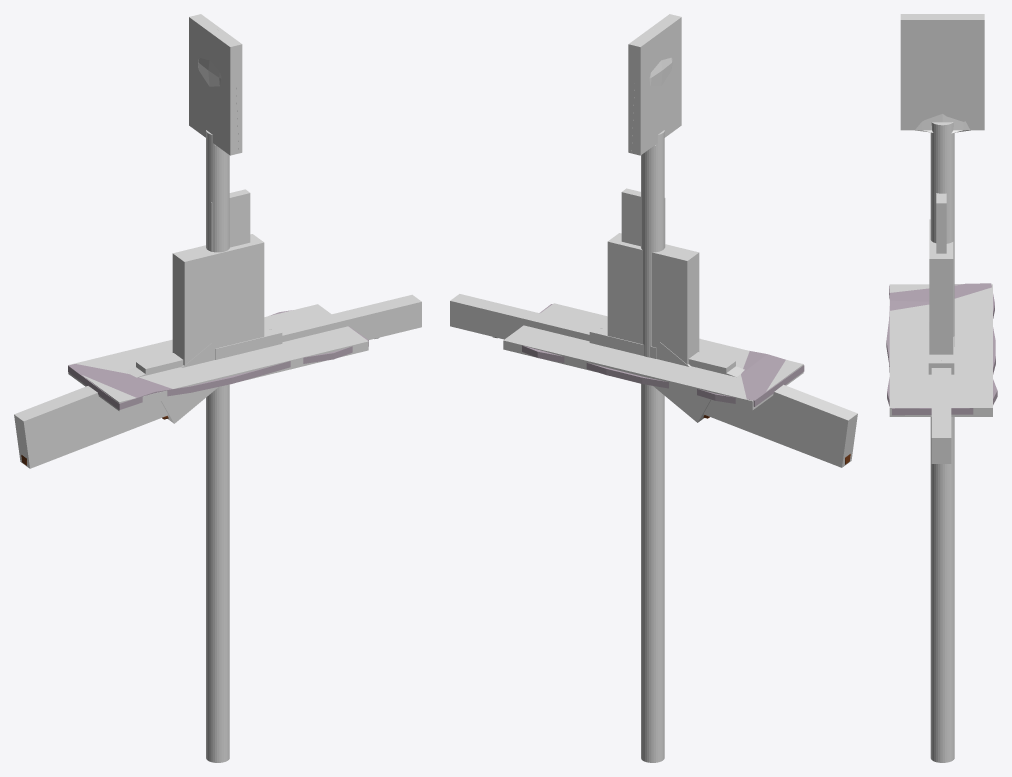
3 renders of one model, left to right at view 1: azimuth 30°, elevation 25°; view 2: azimuth 150°, elevation 25°; view 3: azimuth 270°, elevation 25°, orthographic.
Visible parts, largest first — view 1: COLL_CYLINDER_shovel_handle, COLL_BOX_book, COLL_BOX_combo_code, COLL_BOX_shotgun_handle, COLL_BOX_shovel_spade, COLL_BOX_shotgun_barrel, OBJ_combo_code, COLL_BOX_blade, COLL_BOX_revolver_handle, COLL_BOX_revolver_barrel; view 2: COLL_CYLINDER_shovel_handle, COLL_BOX_book, COLL_BOX_combo_code, COLL_BOX_shotgun_handle, COLL_BOX_shovel_spade, COLL_BOX_shotgun_barrel, OBJ_combo_code, COLL_BOX_blade, COLL_BOX_revolver_handle, COLL_BOX_revolver_barrel; view 3: COLL_CYLINDER_shovel_handle, COLL_BOX_combo_code, COLL_BOX_shovel_spade, COLL_BOX_book, OBJ_combo_code, COLL_BOX_shotgun_barrel, COLL_BOX_blade, COLL_BOX_revolver_barrel, OBJ_shovel.
Part boxes in pixels (x1,y1,x2,y2): COLL_CYLINDER_shovel_handle: (206, 130, 229, 762); COLL_BOX_book: (172, 234, 264, 365); COLL_BOX_combo_code: (68, 304, 368, 411); COLL_BOX_shotgun_handle: (14, 367, 168, 468); COLL_BOX_shovel_spade: (189, 14, 242, 155); COLL_BOX_shotgun_barrel: (136, 294, 421, 375); OBJ_combo_code: (68, 310, 368, 409); COLL_BOX_blade: (210, 189, 250, 251); COLL_BOX_revolver_handle: (161, 343, 218, 423); COLL_BOX_revolver_barrel: (215, 323, 282, 359); COLL_CYLINDER_shovel_handle: (641, 130, 664, 762); COLL_BOX_book: (607, 233, 699, 364); COLL_BOX_combo_code: (503, 303, 803, 410); COLL_BOX_shotgun_handle: (697, 362, 857, 467); COLL_BOX_shovel_spade: (628, 14, 681, 155); COLL_BOX_shotgun_barrel: (450, 294, 735, 373); OBJ_combo_code: (522, 304, 804, 406); COLL_BOX_blade: (621, 188, 665, 247); COLL_BOX_revolver_handle: (653, 342, 710, 422); COLL_BOX_revolver_barrel: (589, 322, 656, 358); COLL_CYLINDER_shovel_handle: (930, 122, 954, 762); COLL_BOX_combo_code: (889, 284, 992, 416); COLL_BOX_shovel_spade: (900, 14, 984, 130); COLL_BOX_book: (929, 219, 953, 354); OBJ_combo_code: (886, 283, 997, 415); COLL_BOX_shotgun_barrel: (931, 368, 951, 463); COLL_BOX_blade: (936, 193, 946, 253); COLL_BOX_revolver_barrel: (928, 330, 954, 374); OBJ_shovel: (915, 114, 970, 133).
Bounding box in the file's own units: 0.9095 × 1.59 × 0.2163.
5 materials, 5 textured.
